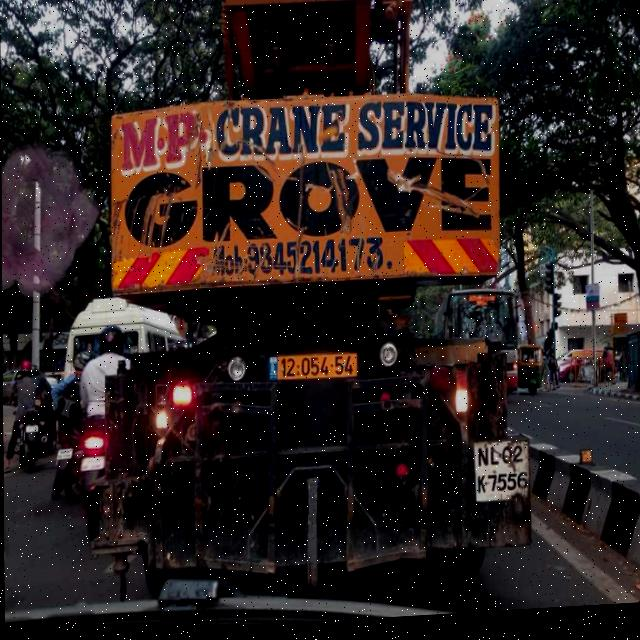plate: (472, 445, 527, 506), (276, 359, 357, 388)
